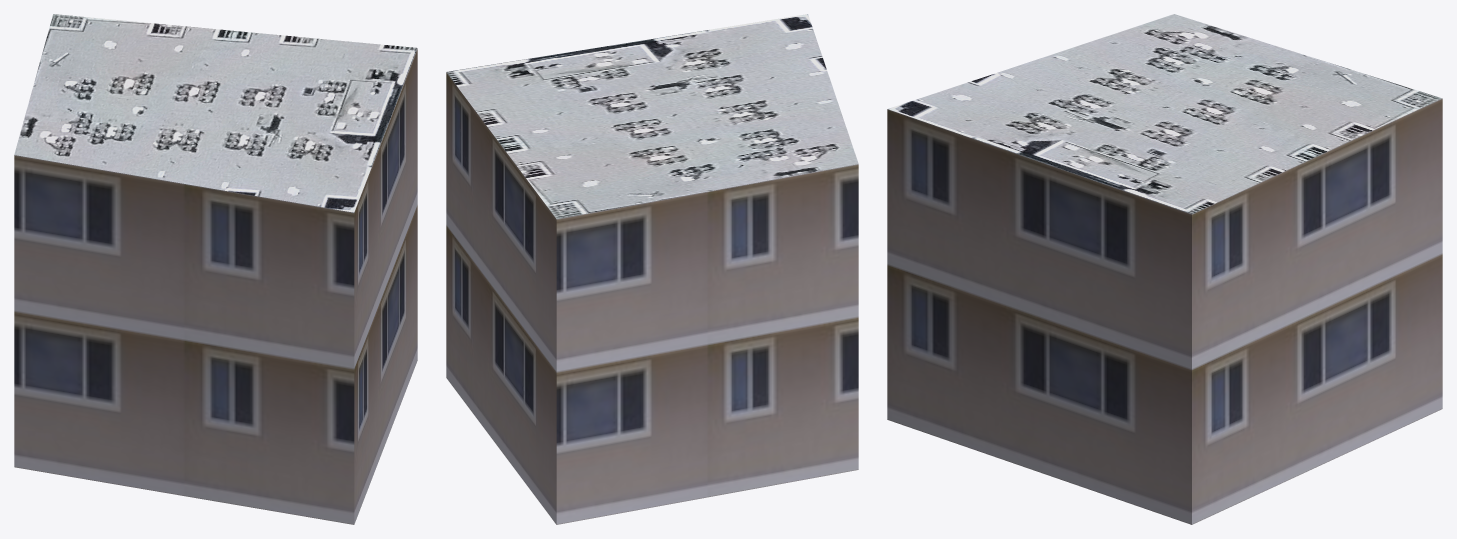
File: ResTex__4114.fbx
The picture shows the model from 3 angles, left to right: view 1: azimuth 30°, elevation 25°; view 2: azimuth 150°, elevation 25°; view 3: azimuth 270°, elevation 25°; orthographic projection. The views are drawn at different scales.
Visible parts, largest first — view 1: CityEngineMaterial_21_m, CityEngineMaterial_2_m; view 2: CityEngineMaterial_21_m, CityEngineMaterial_2_m; view 3: CityEngineMaterial_21_m, CityEngineMaterial_2_m.
Part boxes in pixels (x1,y1,x2,y2): CityEngineMaterial_21_m: (14, 49, 417, 524); CityEngineMaterial_2_m: (14, 14, 417, 212); CityEngineMaterial_21_m: (446, 72, 858, 524); CityEngineMaterial_2_m: (446, 14, 858, 218); CityEngineMaterial_21_m: (887, 98, 1442, 524); CityEngineMaterial_2_m: (888, 14, 1441, 213).
Size of the model in its own units: 8.29 by 6 by 9.71.
2 materials, 2 textured.
